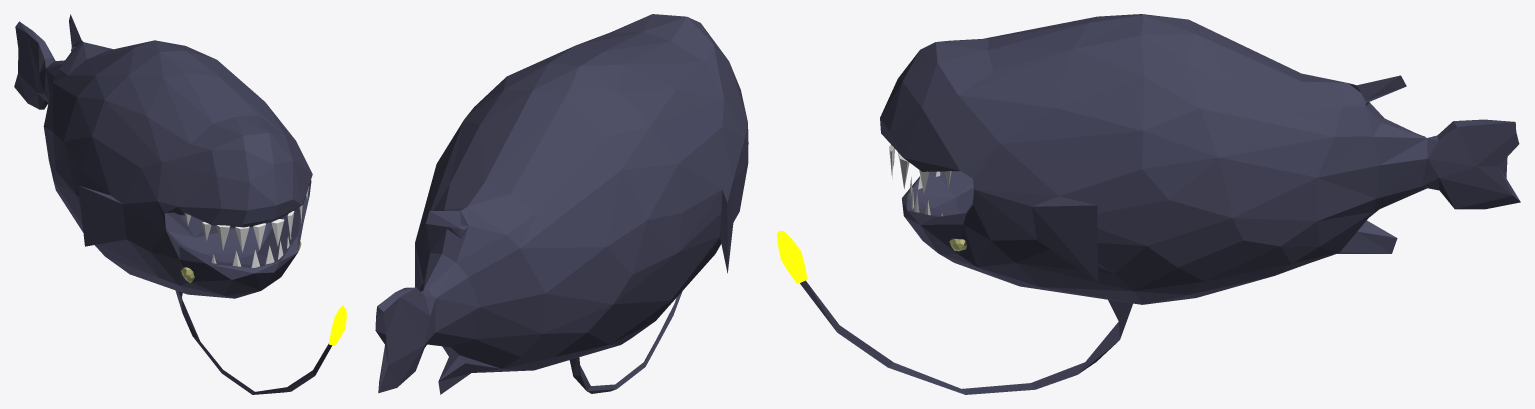
Rendered from AnglerFish.fbx.
3 renders of one model, left to right at view 1: azimuth 30°, elevation 25°; view 2: azimuth 150°, elevation 25°; view 3: azimuth 270°, elevation 25°, orthographic. The views are drawn at different scales.
Visible parts, largest first — view 1: Fish, Teeth, Light; view 2: Fish; view 3: Fish, Light, Teeth.
Boxes of the visible parts, box(x1,y1,x2,y2) form: Fish: box(14, 14, 332, 394); Teeth: box(184, 186, 309, 267); Light: box(329, 305, 346, 345); Fish: box(375, 14, 748, 394); Fish: box(800, 14, 1520, 394); Light: box(777, 231, 807, 283); Teeth: box(889, 145, 951, 216).
Size of the model in its own units: 124 by 167 by 307.
